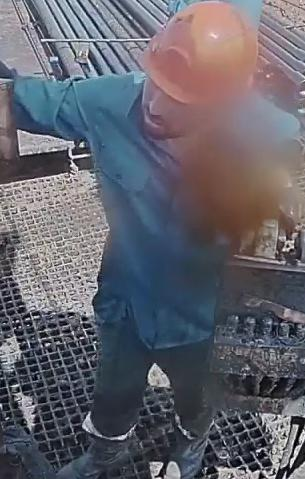helmet: (140, 0, 259, 105)
vest: (69, 79, 294, 356)
